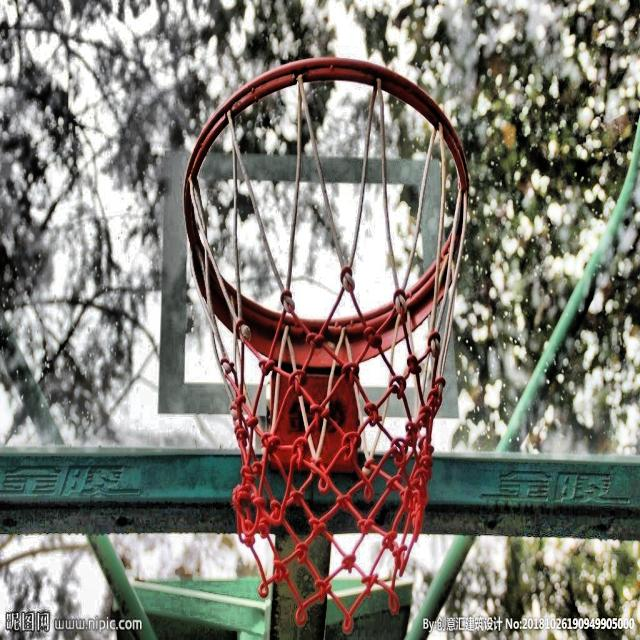rim: (183, 54, 469, 640)
